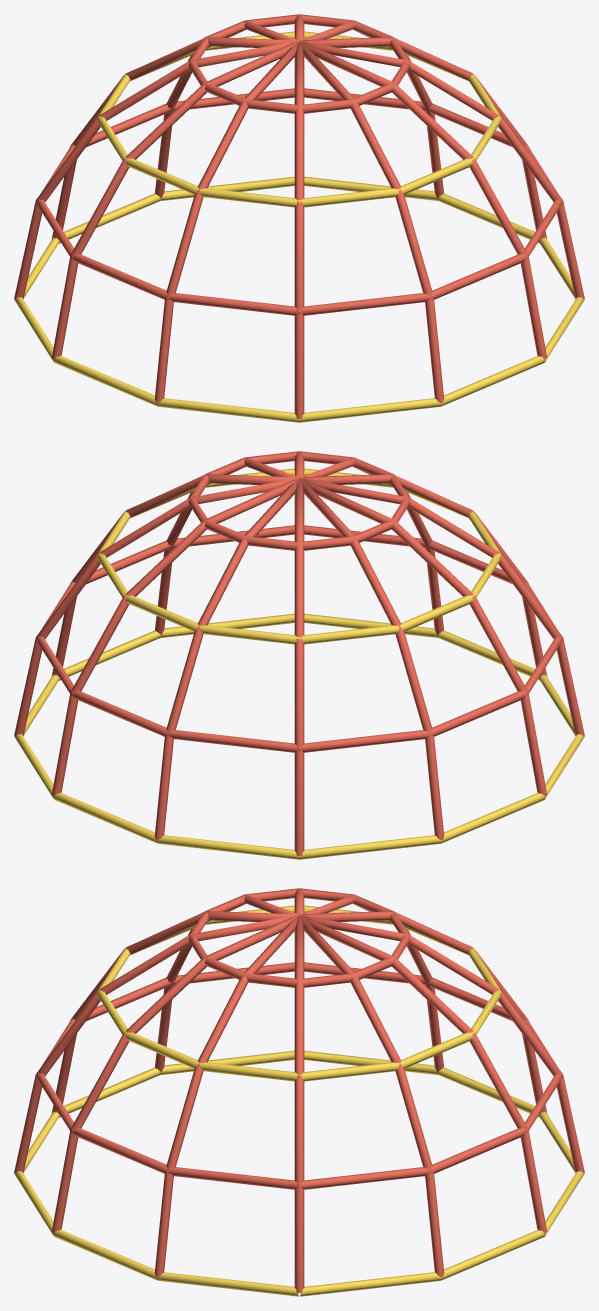
File: climbing_dome.glb
3 renders of one model, top to bottom at view 1: azimuth 30°, elevation 25°; view 2: azimuth 150°, elevation 25°; view 3: azimuth 270°, elevation 25°, orthographic.
Visible parts, largest first — view 1: climbing_dome; view 2: climbing_dome; view 3: climbing_dome.
Part boxes in pixels (<box>): climbing_dome: <box>14,14,584,422</box>; climbing_dome: <box>14,451,584,859</box>; climbing_dome: <box>14,888,584,1296</box>.
Bounding box in the file's own units: 3.05 × 1.55 × 3.05.
